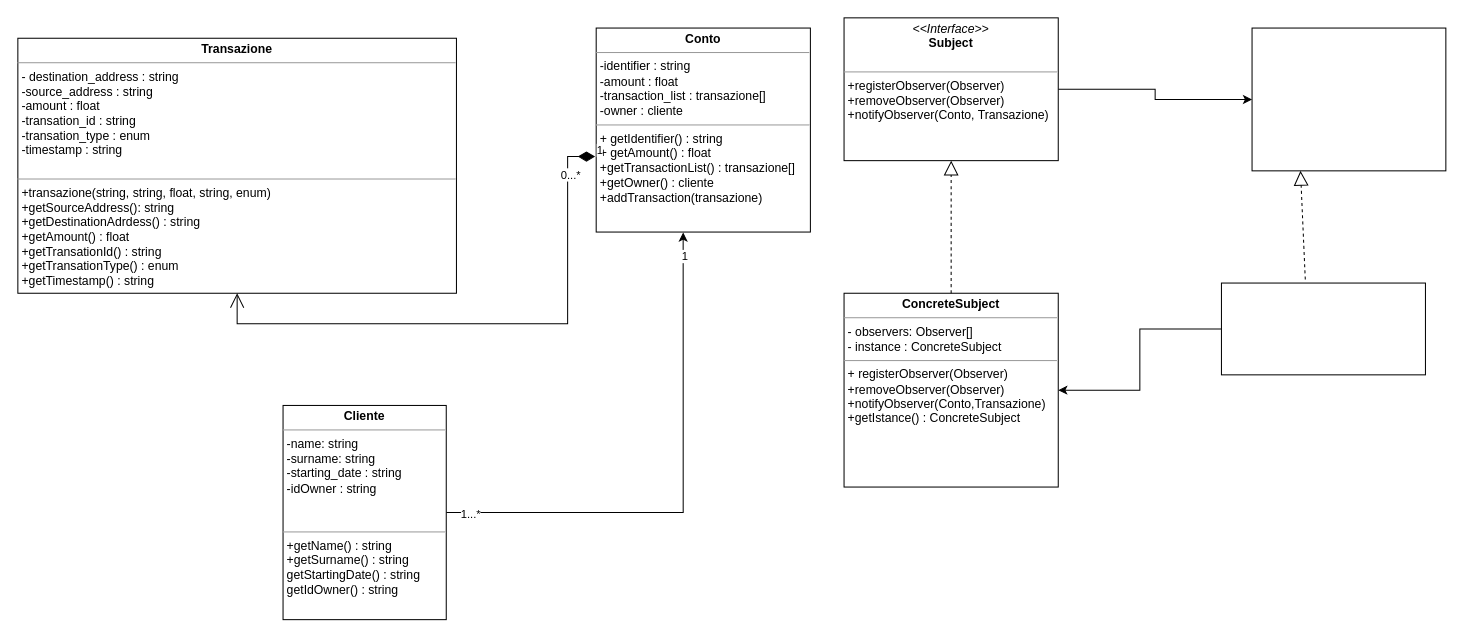
The diagram is 1464 pixels wide and 638 high, and some of its shapes have lost their labels. The centre of each missing label's shape, as x and y in pixels:
<<Interface>> Observer +update(Conto, Transazione): pixel 1348 99
FileManager +update(Conto, Transazione): pixel 1322 328
